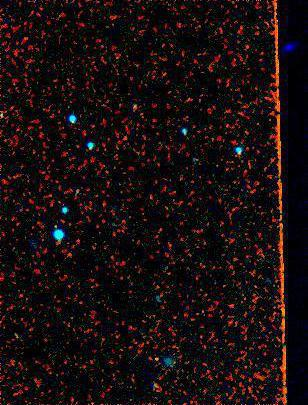star: (136, 345, 166, 375)
